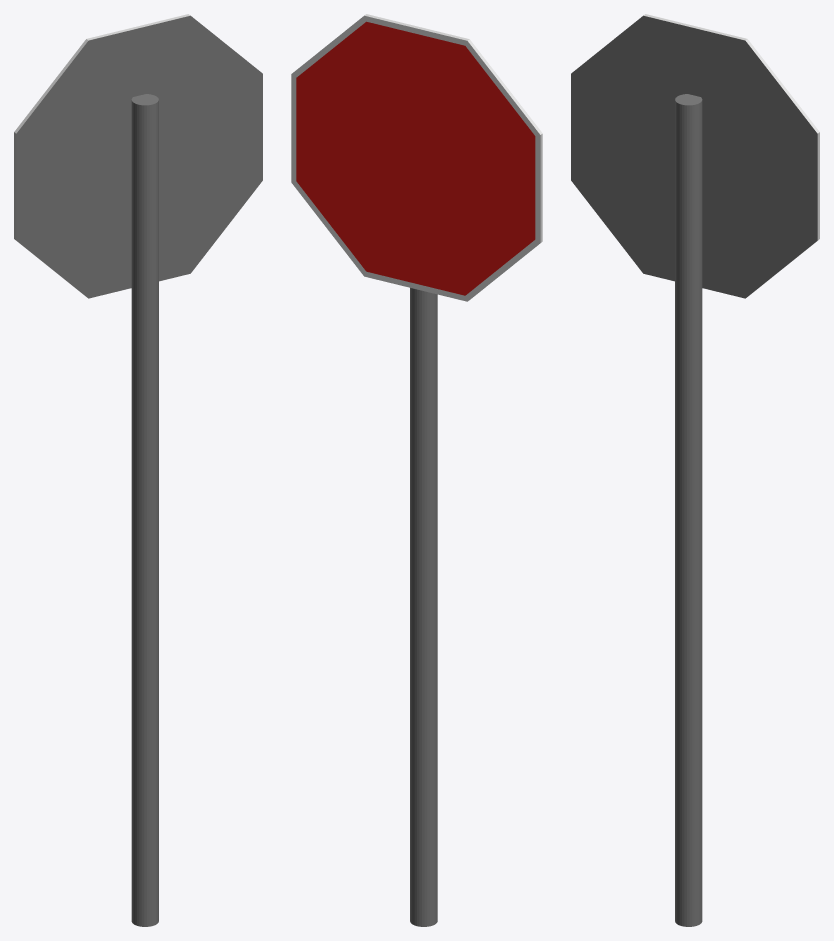
Rendered from Stop.fbx.
3 views of the same model, side by side, from view 1: azimuth 30°, elevation 25°; view 2: azimuth 150°, elevation 25°; view 3: azimuth 330°, elevation 25° (orthographic).
Parts seen in each view (by area): view 1: Stop; view 2: Stop; view 3: Stop.
Boxes of the visible parts, left/top/right/bottom form: Stop: left=14, top=14, right=262, bottom=926; Stop: left=291, top=14, right=542, bottom=926; Stop: left=571, top=14, right=819, bottom=926.
Size of the model in its own units: 6.5 by 216 by 62.82.
